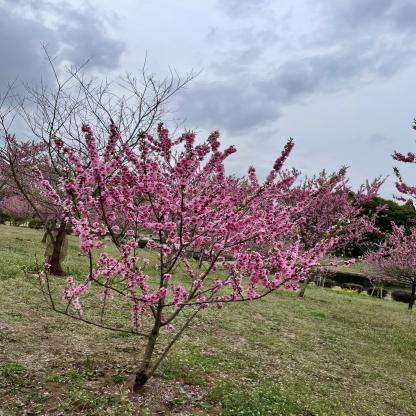Momo: (0, 38, 400, 335), (270, 164, 392, 269), (363, 114, 416, 293), (0, 156, 117, 226)
